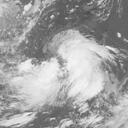cyclone: (32, 29, 104, 98)
